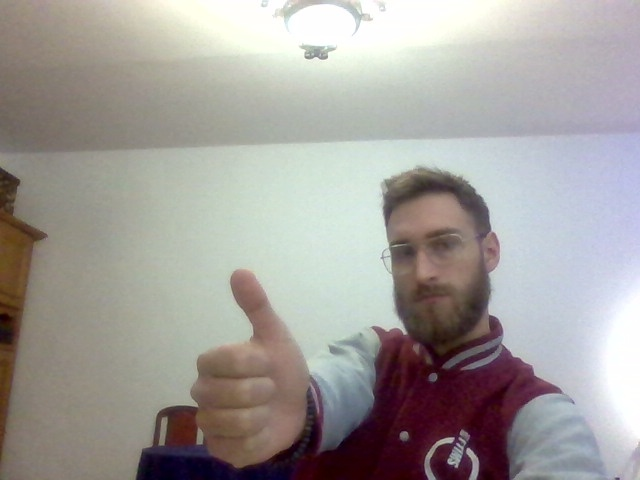ThumbsUp: (191, 268, 307, 469)
